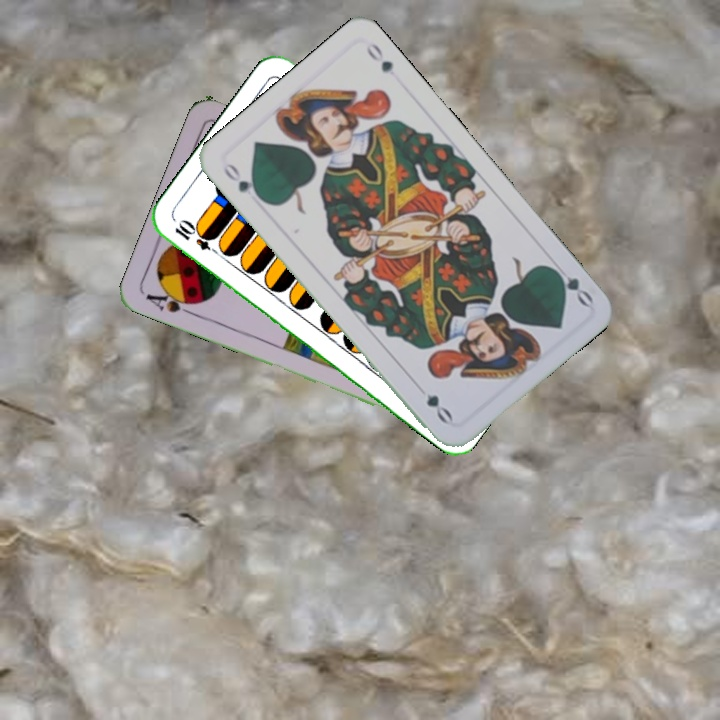E10: (170, 216, 225, 259)
GO: (546, 258, 596, 309), (219, 158, 266, 204)
SA: (142, 284, 202, 319)
